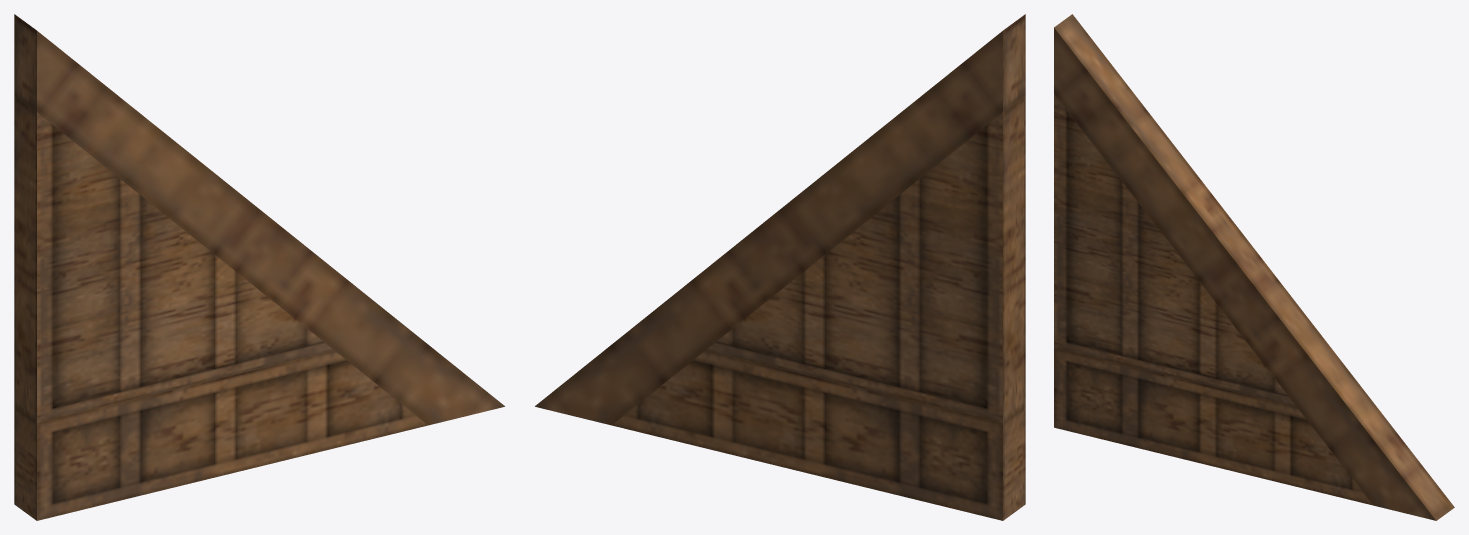
File: wooden_wall_arch_3x3.fbx
3 views of the same model, side by side, from view 1: azimuth 30°, elevation 25°; view 2: azimuth 150°, elevation 25°; view 3: azimuth 330°, elevation 25° (orthographic). The views are drawn at different scales.
Parts seen in each view (by area): view 1: Wall_Arch_3x3.; view 2: Wall_Arch_3x3.; view 3: Wall_Arch_3x3..
Boxes of the visible parts, x1,y1,x2,y2 form: Wall_Arch_3x3.: [14, 14, 504, 520]; Wall_Arch_3x3.: [535, 14, 1025, 520]; Wall_Arch_3x3.: [1054, 14, 1454, 520].
Size of the model in its own units: 300 by 300 by 25.
